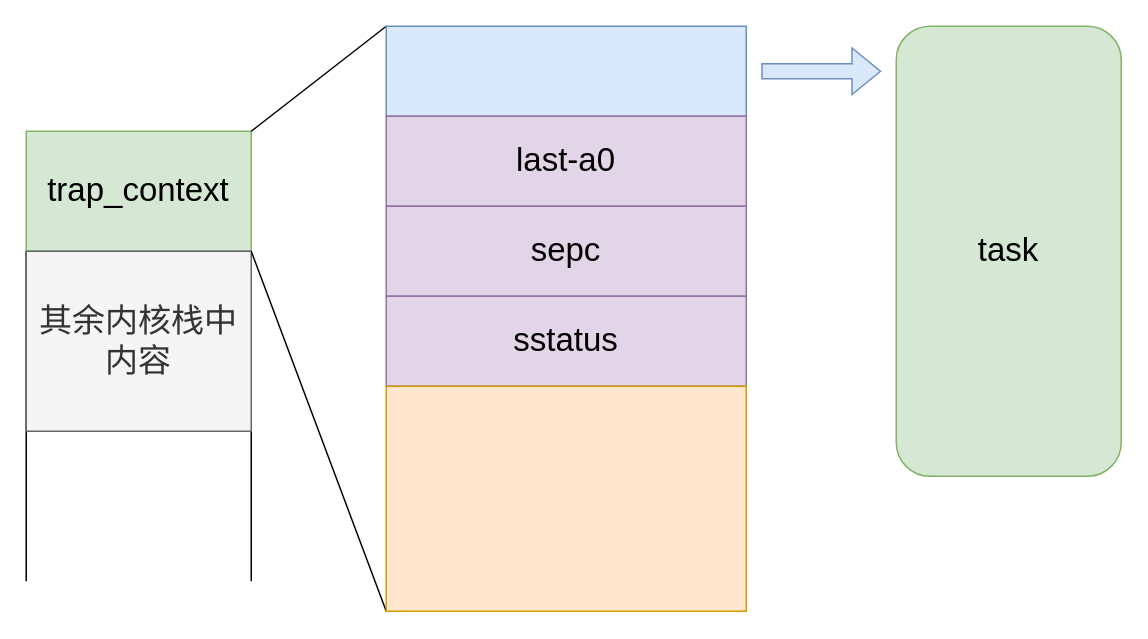
This 1148x639 diagram has some shape labels left out. The shapes that lost their labels are listed below. From the top down, each one's centre as x and y in pixels, then its label:
At [565,70]: "kernal tp".
At [565,498]: "通用寄存器 x0 ~ x31".
